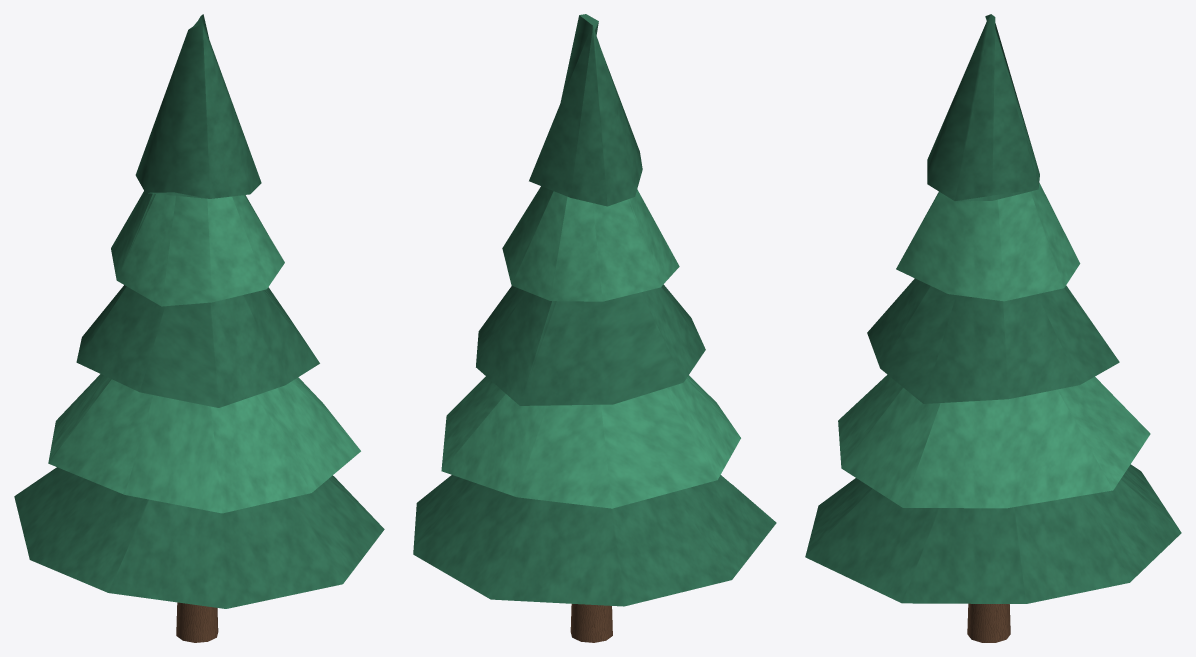
Rendered from env_tree_pine.glb.
The picture shows the model from 3 angles, left to right: view 1: azimuth 30°, elevation 25°; view 2: azimuth 150°, elevation 25°; view 3: azimuth 270°, elevation 25°; orthographic projection.
Parts seen in each view (by area): view 1: env_tree_pine; view 2: env_tree_pine; view 3: env_tree_pine.
Part boxes in pixels (x1,y1,x2,y2): env_tree_pine: (14,14,384,642); env_tree_pine: (413,14,776,642); env_tree_pine: (805,14,1181,642).
Bounding box in the file's own units: 4.98 × 9.49 × 5.2.
3 materials, 3 textured.
